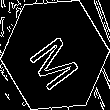M_NE: (24, 22, 86, 88)
